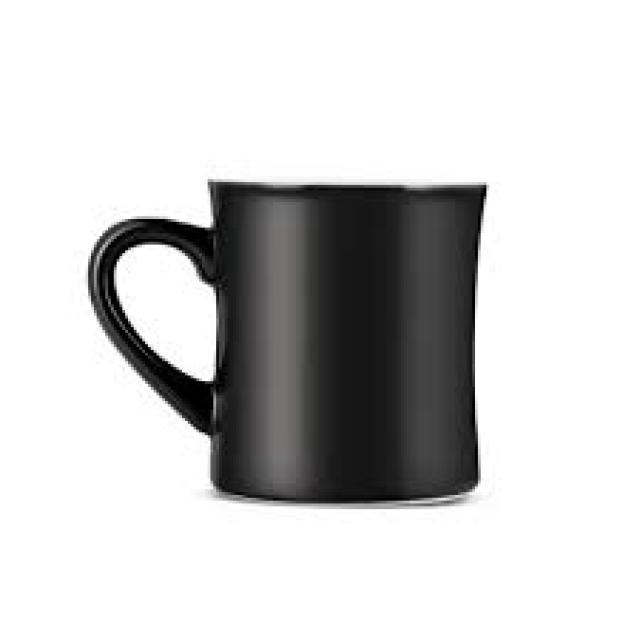taza: (85, 177, 491, 507)
